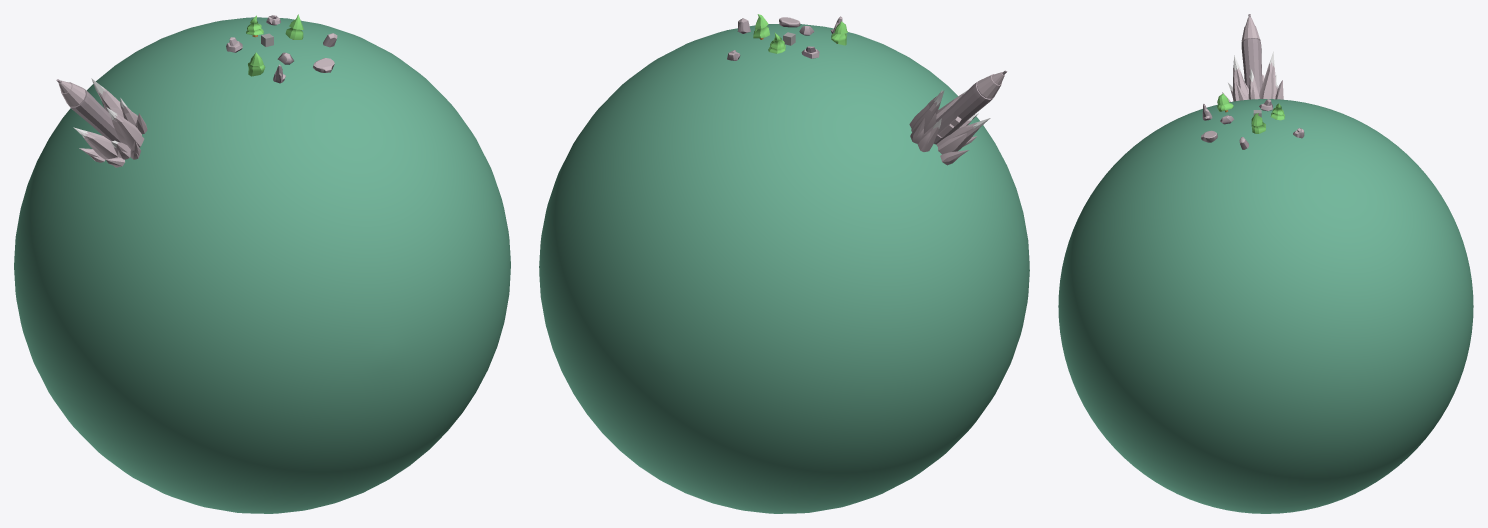
Rendered from enviro_test.fbx.
The picture shows the model from 3 angles, left to right: view 1: azimuth 30°, elevation 25°; view 2: azimuth 150°, elevation 25°; view 3: azimuth 270°, elevation 25°; orthographic projection. The views are drawn at different scales.
Visible parts, largest first — view 1: planet, wizard_tower1, mountainpeak_a2, mountainpeak_a3; view 2: planet, wizard_tower1, mountainpeak_a3, mountainpeak_a1; view 3: planet, wizard_tower1, mountainpeak_a1.
Boxes of the visible parts, x1,y1,x2,y2 form: planet: (14,17,510,513); wizard_tower1: (56,79,121,142); mountainpeak_a2: (106,107,144,149); mountainpeak_a3: (73,127,118,159); planet: (539,24,1029,513); wizard_tower1: (933,70,1007,144); mountainpeak_a3: (936,118,990,154); mountainpeak_a1: (909,90,944,133); planet: (1058,99,1473,513); wizard_tower1: (1241,14,1264,94); mountainpeak_a1: (1259,51,1275,99).
Bounding box in the file's own units: 80.1 × 83.81 × 80.
